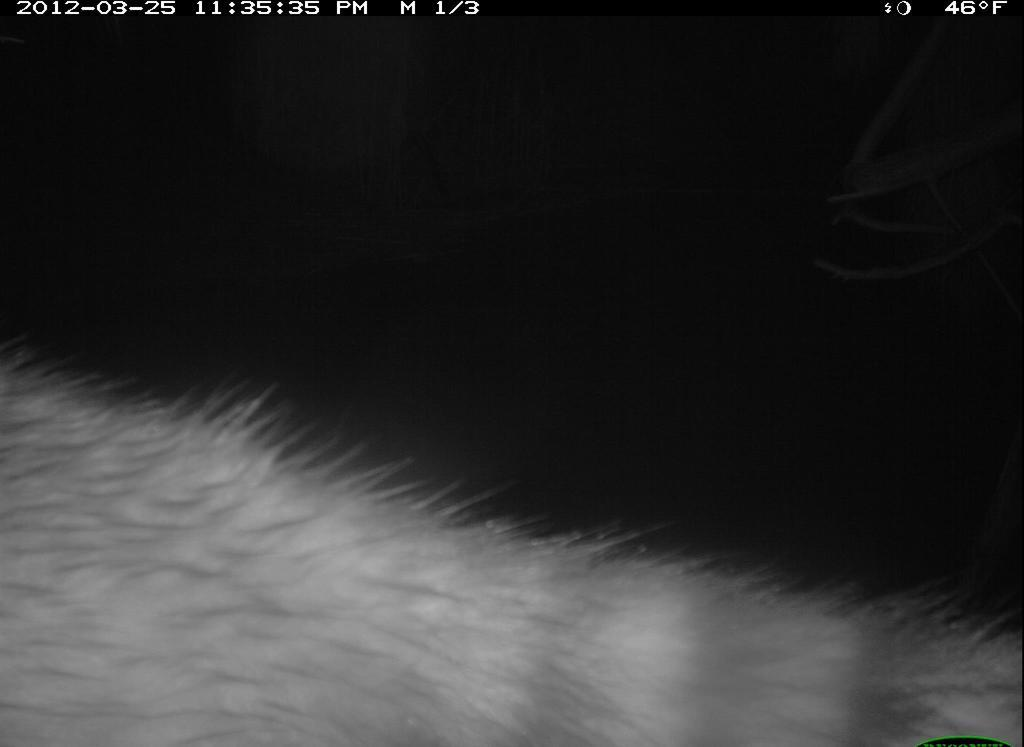raccoon: (2, 317, 1019, 745)
